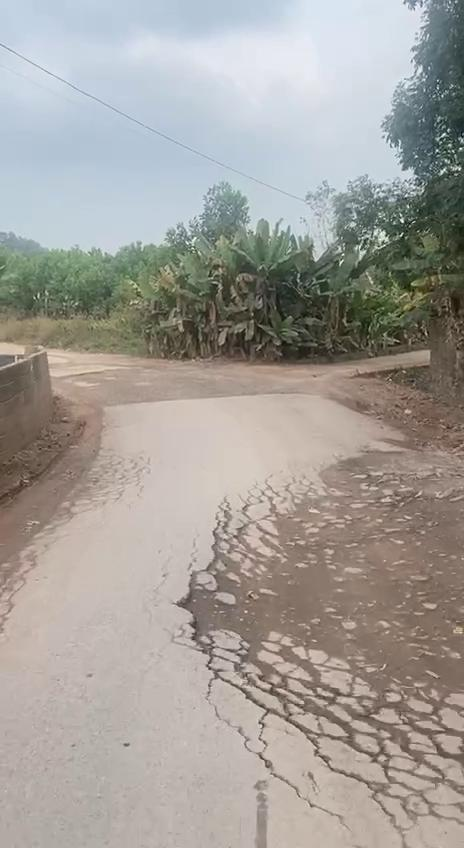pothole: (172, 442, 464, 766)
